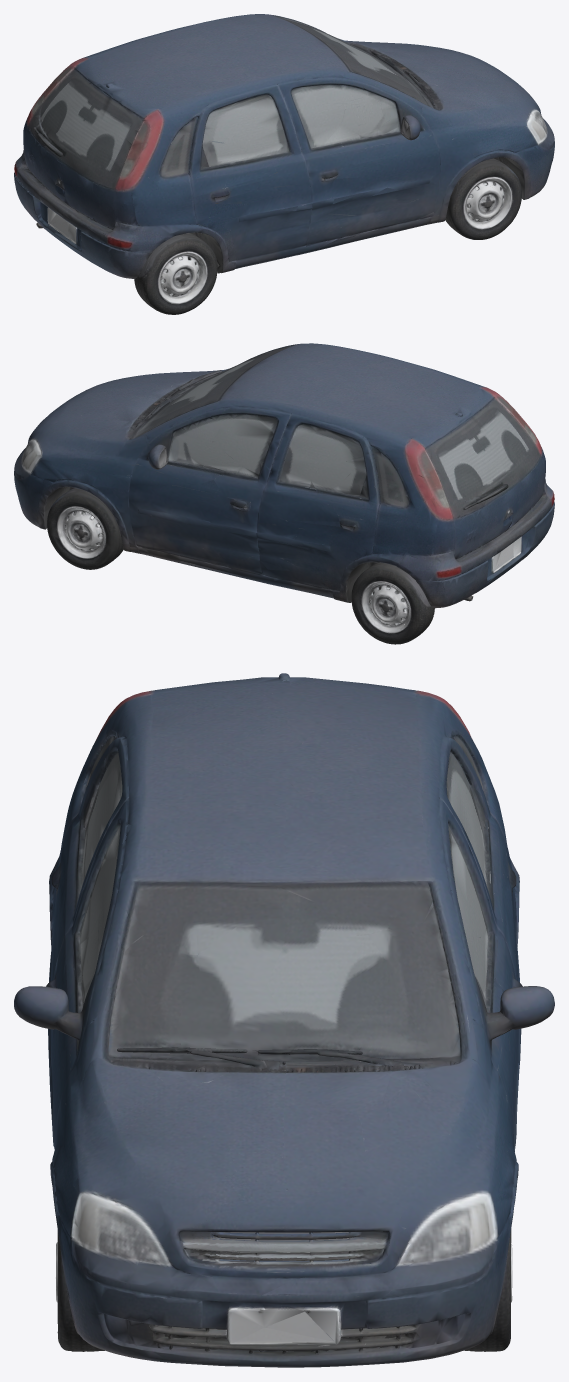
The model's file is hatch-arredondado__01a16982.glb.
The picture shows the model from 3 angles, top to bottom: view 1: azimuth 30°, elevation 25°; view 2: azimuth 150°, elevation 25°; view 3: azimuth 270°, elevation 25°; orthographic projection. The views are drawn at different scales.
Visible parts, largest first — view 1: hatch-arredondado__01a16982; view 2: hatch-arredondado__01a16982; view 3: hatch-arredondado__01a16982.
Part boxes in pixels (x1,y1,x2,y2): hatch-arredondado__01a16982: (14,14,554,314); hatch-arredondado__01a16982: (14,343,554,644); hatch-arredondado__01a16982: (14,673,554,1367).
Bounding box in the file's own units: 3.82 × 1.54 × 1.98.
1 material, 1 textured.
